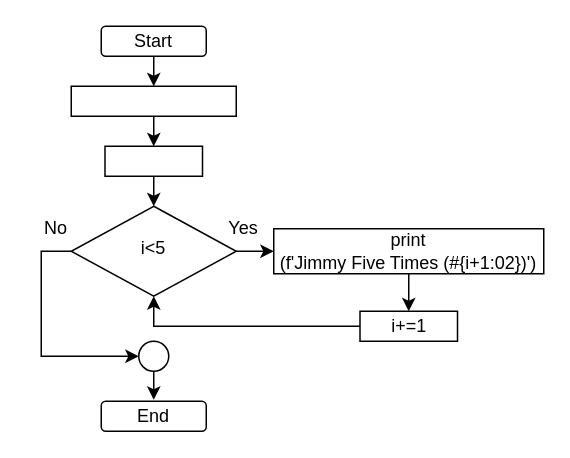
The diagram is 570 pixels wide and 458 high, and some of its shapes have lost their labels. The shapes that lost their labels are listed below. From the top down, each one's centre as x and y in pixels, then its label:
the point at 153,100: print('My name is')
the point at 153,160: i=0
